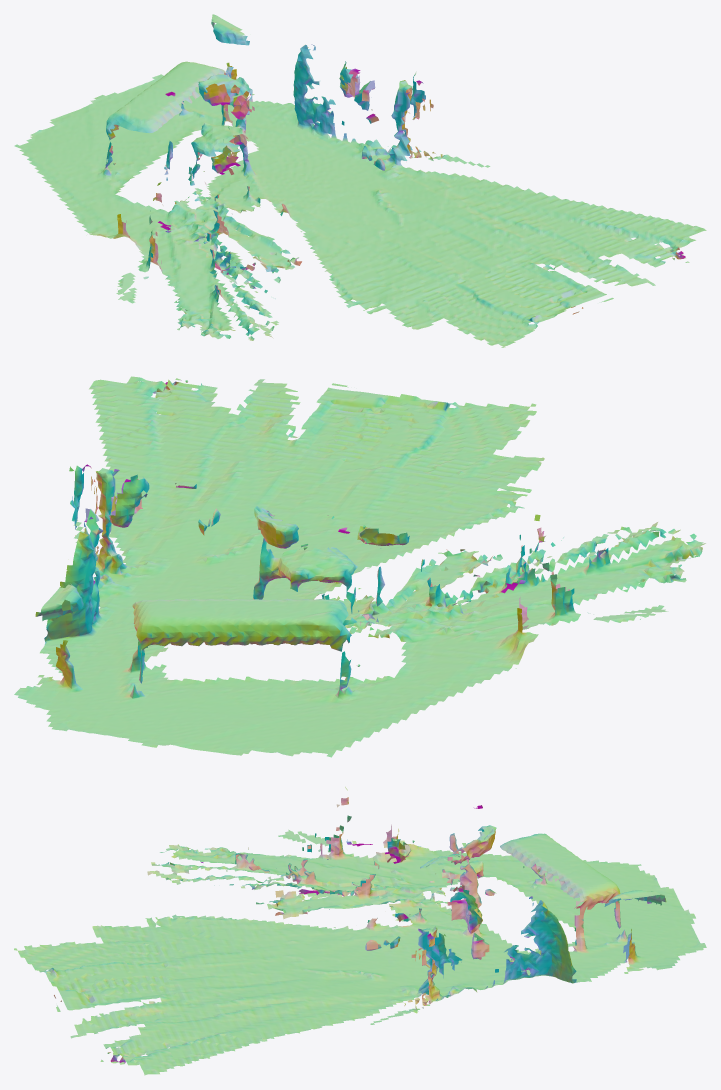
File: 3b9a640b-Entry_bench.glb
3 renders of one model, top to bottom at view 1: azimuth 30°, elevation 25°; view 2: azimuth 150°, elevation 25°; view 3: azimuth 270°, elevation 25°, orthographic. The views are drawn at different scales.
Visible parts, largest first — view 1: AbundanceScan-2026-11-15_121854.glb; view 2: AbundanceScan-2026-11-15_121854.glb; view 3: AbundanceScan-2026-11-15_121854.glb.
Boxes of the visible parts, x1=… form: AbundanceScan-2026-11-15_121854.glb: x1=14, y1=14, x2=706, y2=347; AbundanceScan-2026-11-15_121854.glb: x1=14, y1=376, x2=705, y2=757; AbundanceScan-2026-11-15_121854.glb: x1=14, y1=787, x2=706, y2=1075.
Size of the model in its own units: 4.32 by 0.8755 by 5.19.
